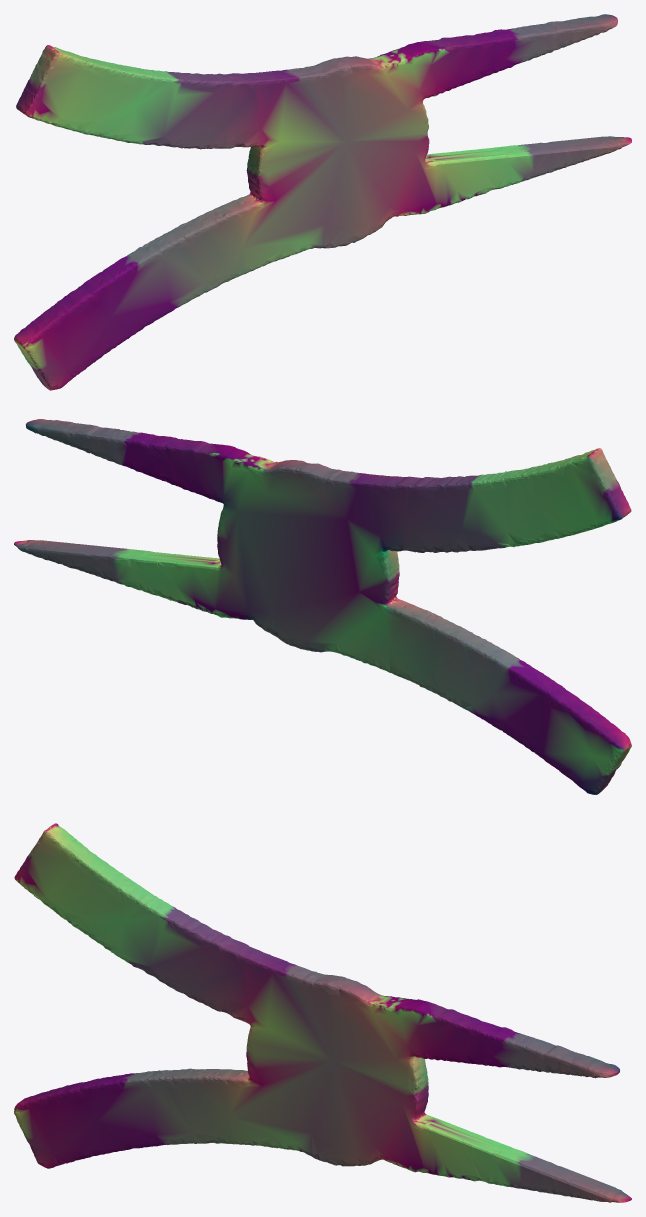
Rendered from scissor-19.off.obj.
3 views of the same model, one above another, from view 1: azimuth 30°, elevation 25°; view 2: azimuth 150°, elevation 25°; view 3: azimuth 330°, elevation 25° (orthographic).
Size of the model in its own units: 1.58 by 0.8389 by 0.0558.
